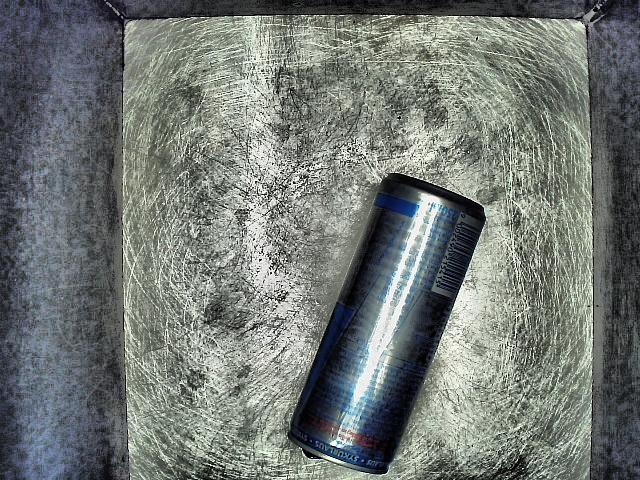Bottles: (284, 171, 501, 480)
